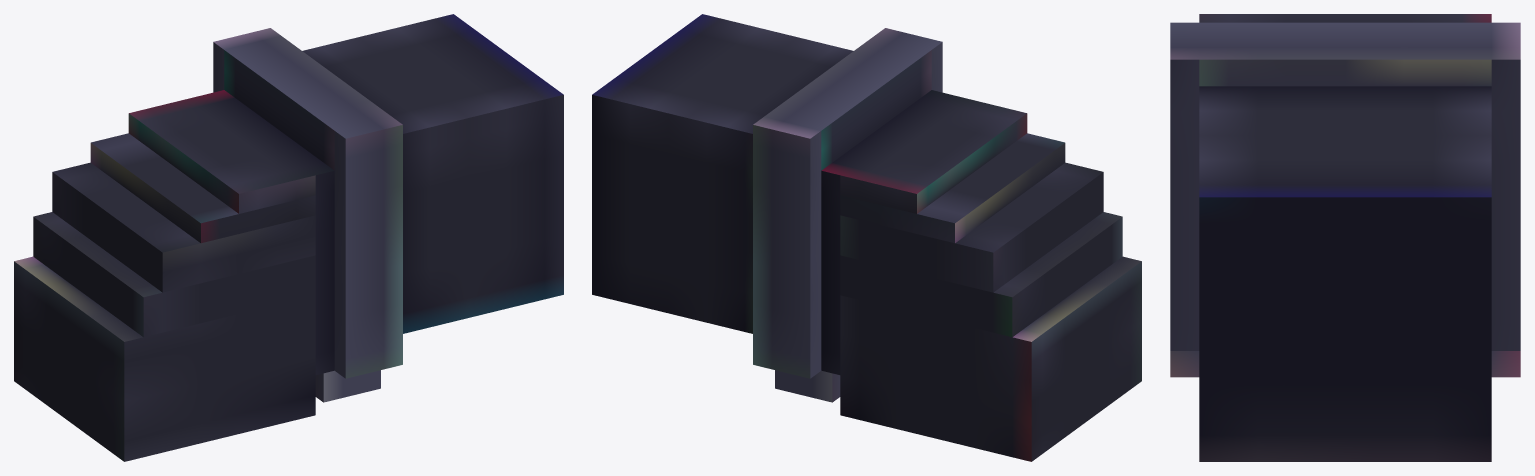
Rendered from Vent_G_00.fbx.
3 views of the same model, side by side, from view 1: azimuth 30°, elevation 25°; view 2: azimuth 150°, elevation 25°; view 3: azimuth 270°, elevation 25° (orthographic). The views are drawn at different scales.
Parts seen in each view (by area): view 1: Vent_G_00; view 2: Vent_G_00; view 3: Vent_G_00.
Boxes of the visible parts, x1,y1,x2,y2 form: Vent_G_00: (14,14,563,461); Vent_G_00: (592,14,1141,461); Vent_G_00: (1170,14,1520,461).
Bounding box in the file's own units: 115 × 70 × 60.
